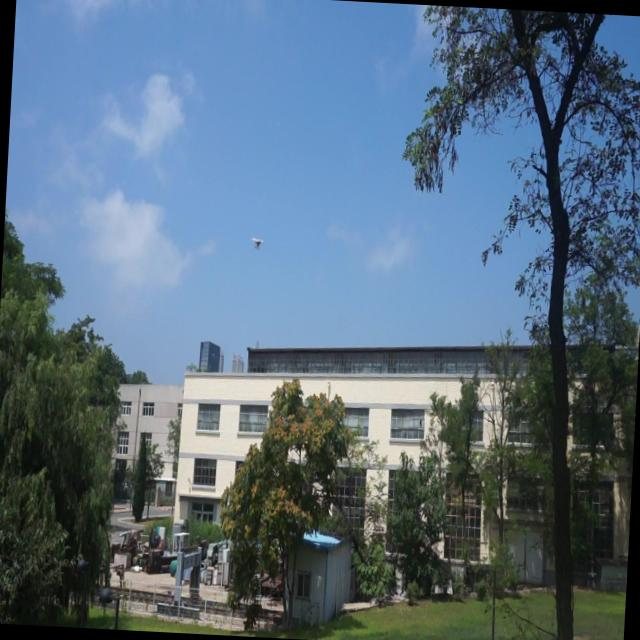drone: (248, 229, 266, 258)
